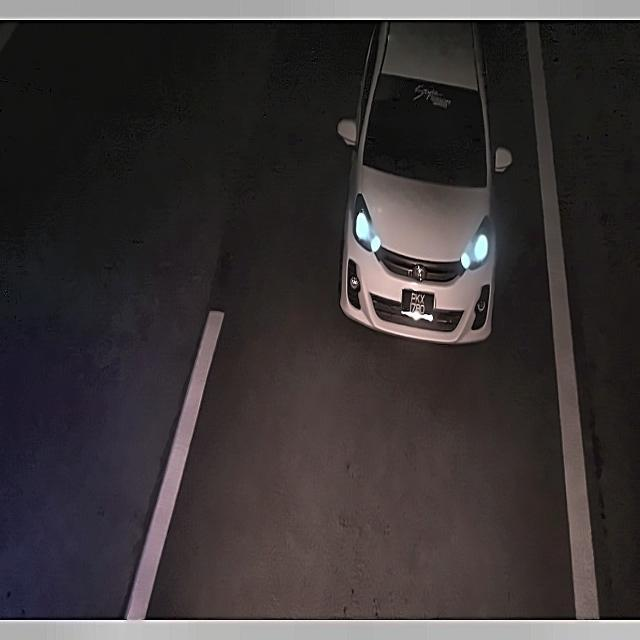car: (402, 281, 433, 319)
